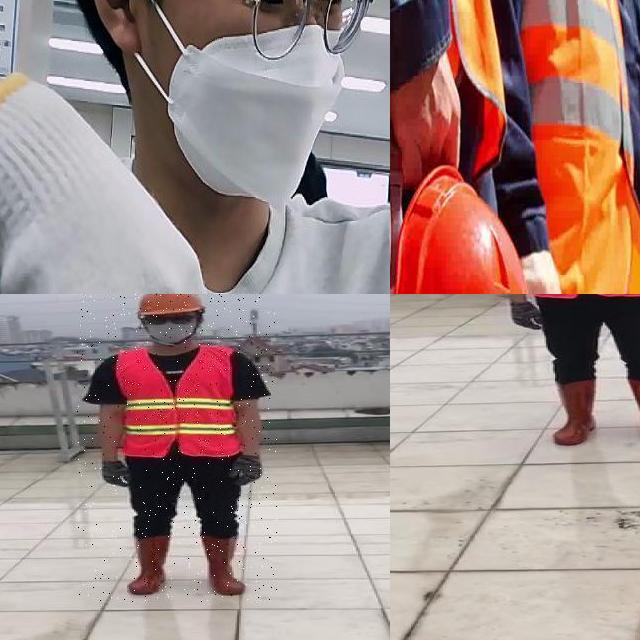BOOTS: (548, 376, 598, 448), (198, 532, 250, 598), (127, 534, 173, 595), (626, 378, 640, 445)
GLASS: (141, 311, 198, 326)
GLOVE: (0, 73, 240, 294), (510, 297, 545, 333), (230, 453, 264, 486), (101, 457, 134, 487)
HELMET: (390, 163, 532, 294), (131, 294, 205, 316)
VEST: (520, 0, 640, 294), (118, 344, 239, 457)
